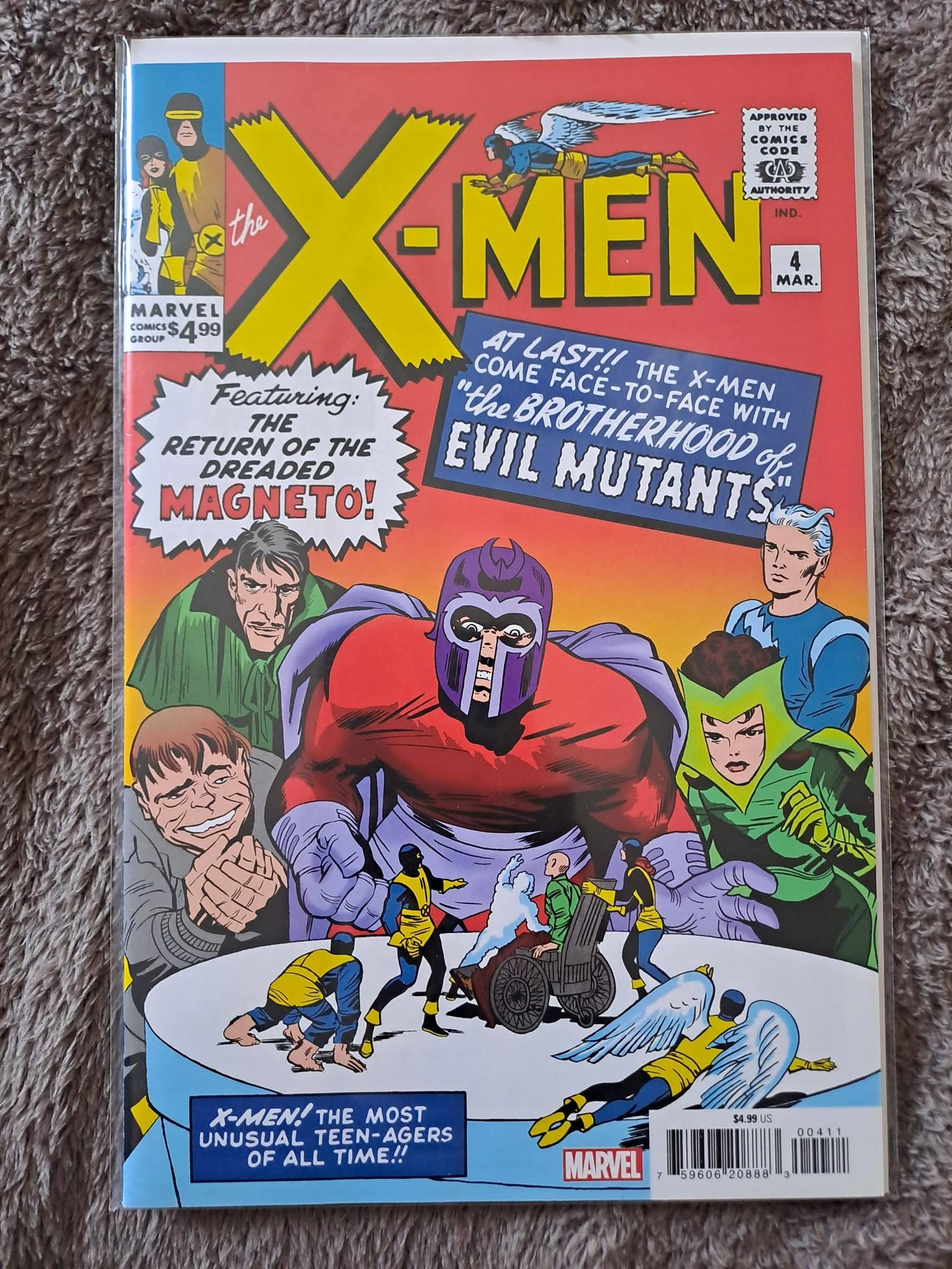comic: (109, 33, 889, 1207)
